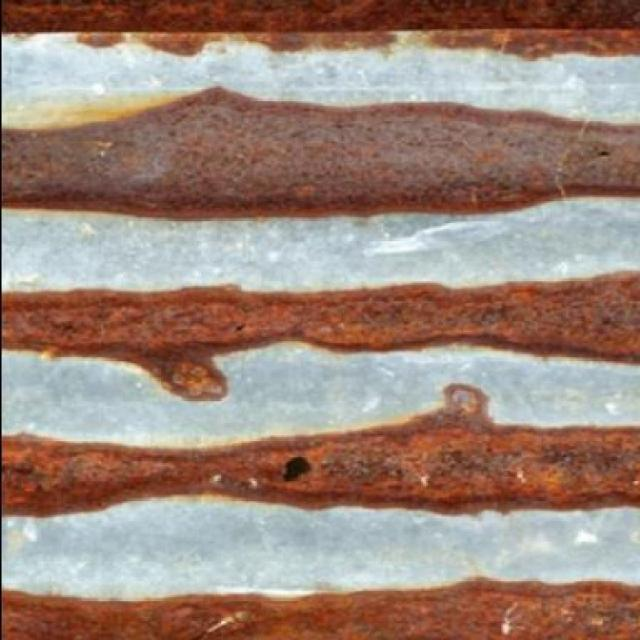Corrosion: (1, 0, 639, 639), (1, 83, 639, 219), (1, 382, 639, 518), (1, 267, 639, 401), (0, 576, 639, 639)
